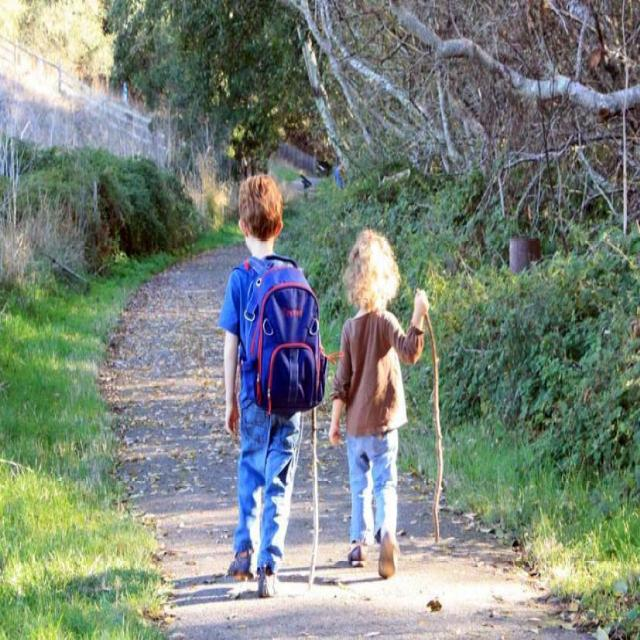Person: (223, 174, 325, 599), (330, 230, 430, 581)
